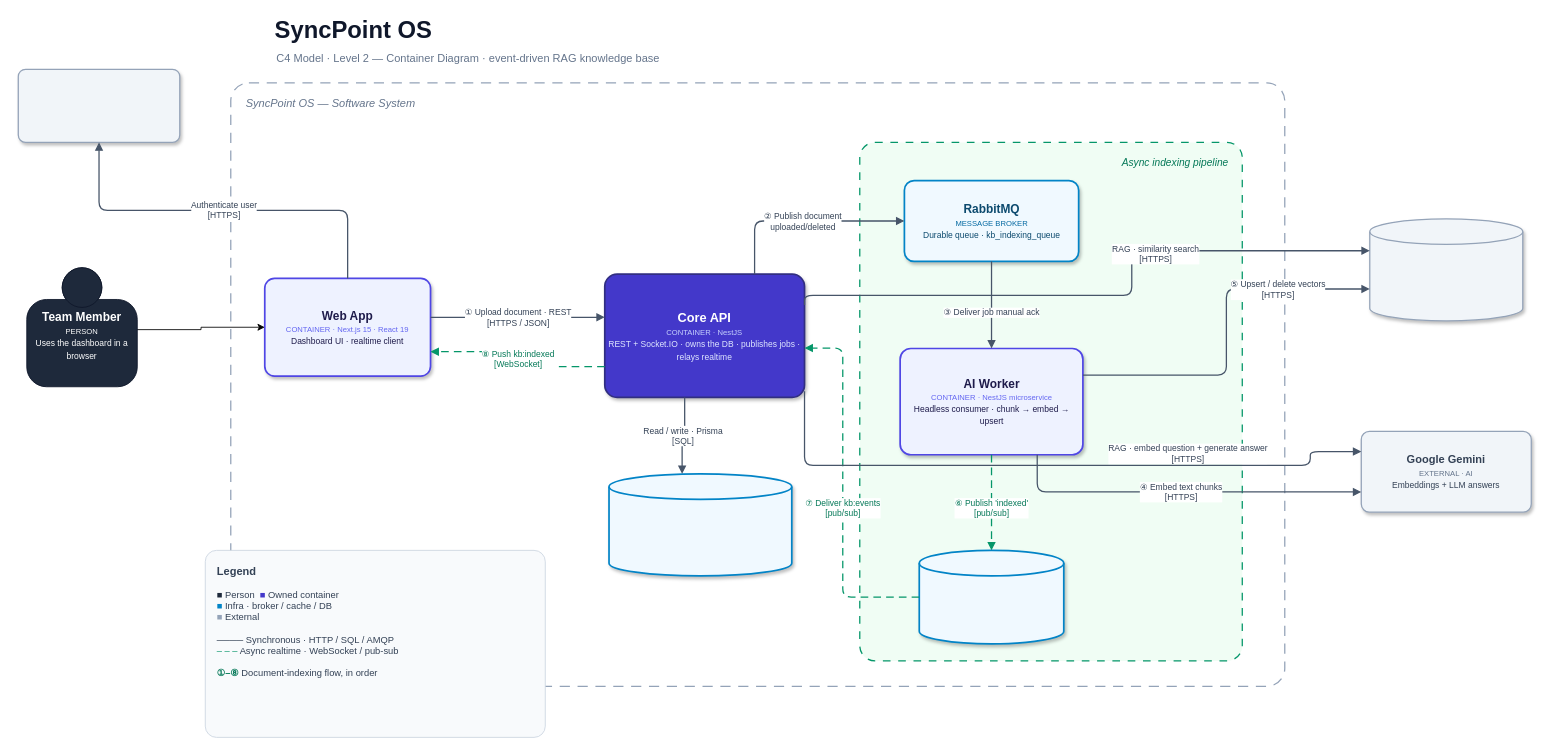
This 1552x752 diagram has some shape labels left out. The shapes that lost their labels are listed below. From the top down, each one's centre as x and y in pixels, then its label:
At pixel 99 107: "Clerk EXTERNAL · AUTH Auth & JWT issuer".
At pixel 1446 270: "Pinecone EXTERNAL · VECTOR DB Stores & searches embeddings".
At pixel 700 525: "MariaDB RELATIONAL DB · Prisma Users · teams · document metadata".
At pixel 992 598: "Redis PUB / SUB Channel · kb:events".
